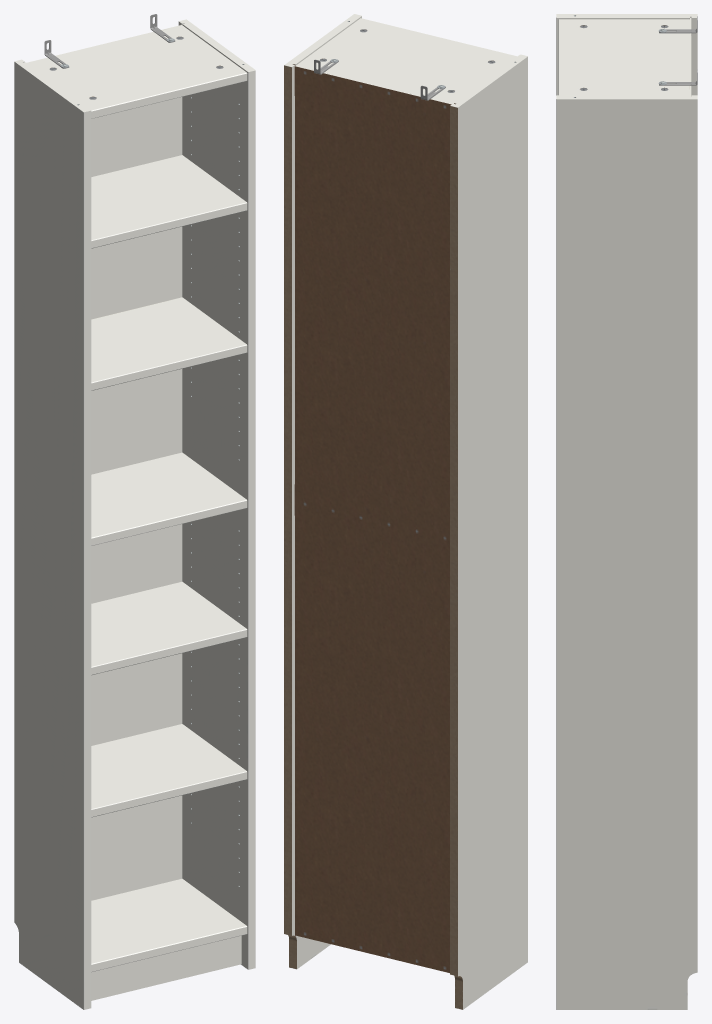
3 views of the same model, side by side, from view 1: azimuth 30°, elevation 25°; view 2: azimuth 150°, elevation 25°; view 3: azimuth 270°, elevation 25° (orthographic).
Visible parts, largest first — view 1: world; view 2: world; view 3: world.
Part boxes in pixels (bbox=[...]): world: bbox=[14, 14, 255, 1009]; world: bbox=[284, 14, 527, 1009]; world: bbox=[556, 14, 697, 1009].
Bounding box in the file's own units: 0.4 × 2.02 × 0.28.
1 material, 1 textured.
